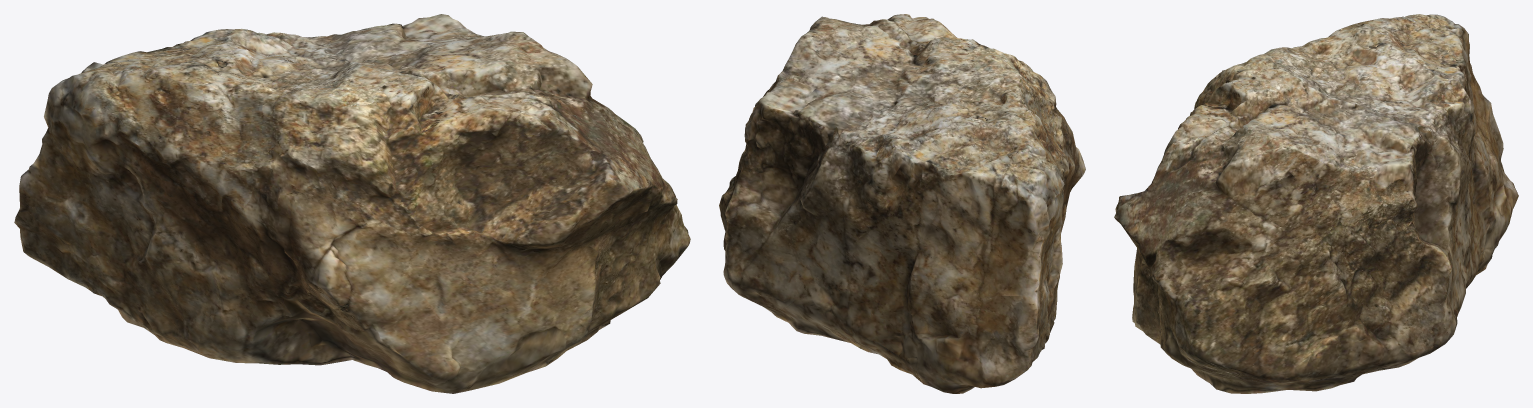
Rendered from rock1.gltf.
The picture shows the model from 3 angles, left to right: view 1: azimuth 30°, elevation 25°; view 2: azimuth 150°, elevation 25°; view 3: azimuth 270°, elevation 25°; orthographic projection. The views are drawn at different scales.
Visible parts, largest first — view 1: rock1; view 2: rock1; view 3: rock1.
Boxes of the visible parts, bbox=[...] form: rock1: bbox=[14, 14, 690, 393]; rock1: bbox=[719, 14, 1085, 393]; rock1: bbox=[1114, 14, 1518, 393].
Size of the model in its own units: 4.48 by 2.33 by 3.69.
Materials: 1 (1 with a texture image).
